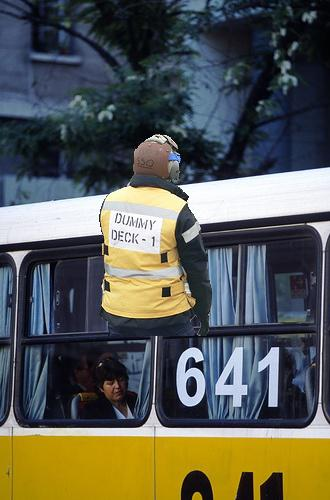tampered: (99, 135, 212, 336)
